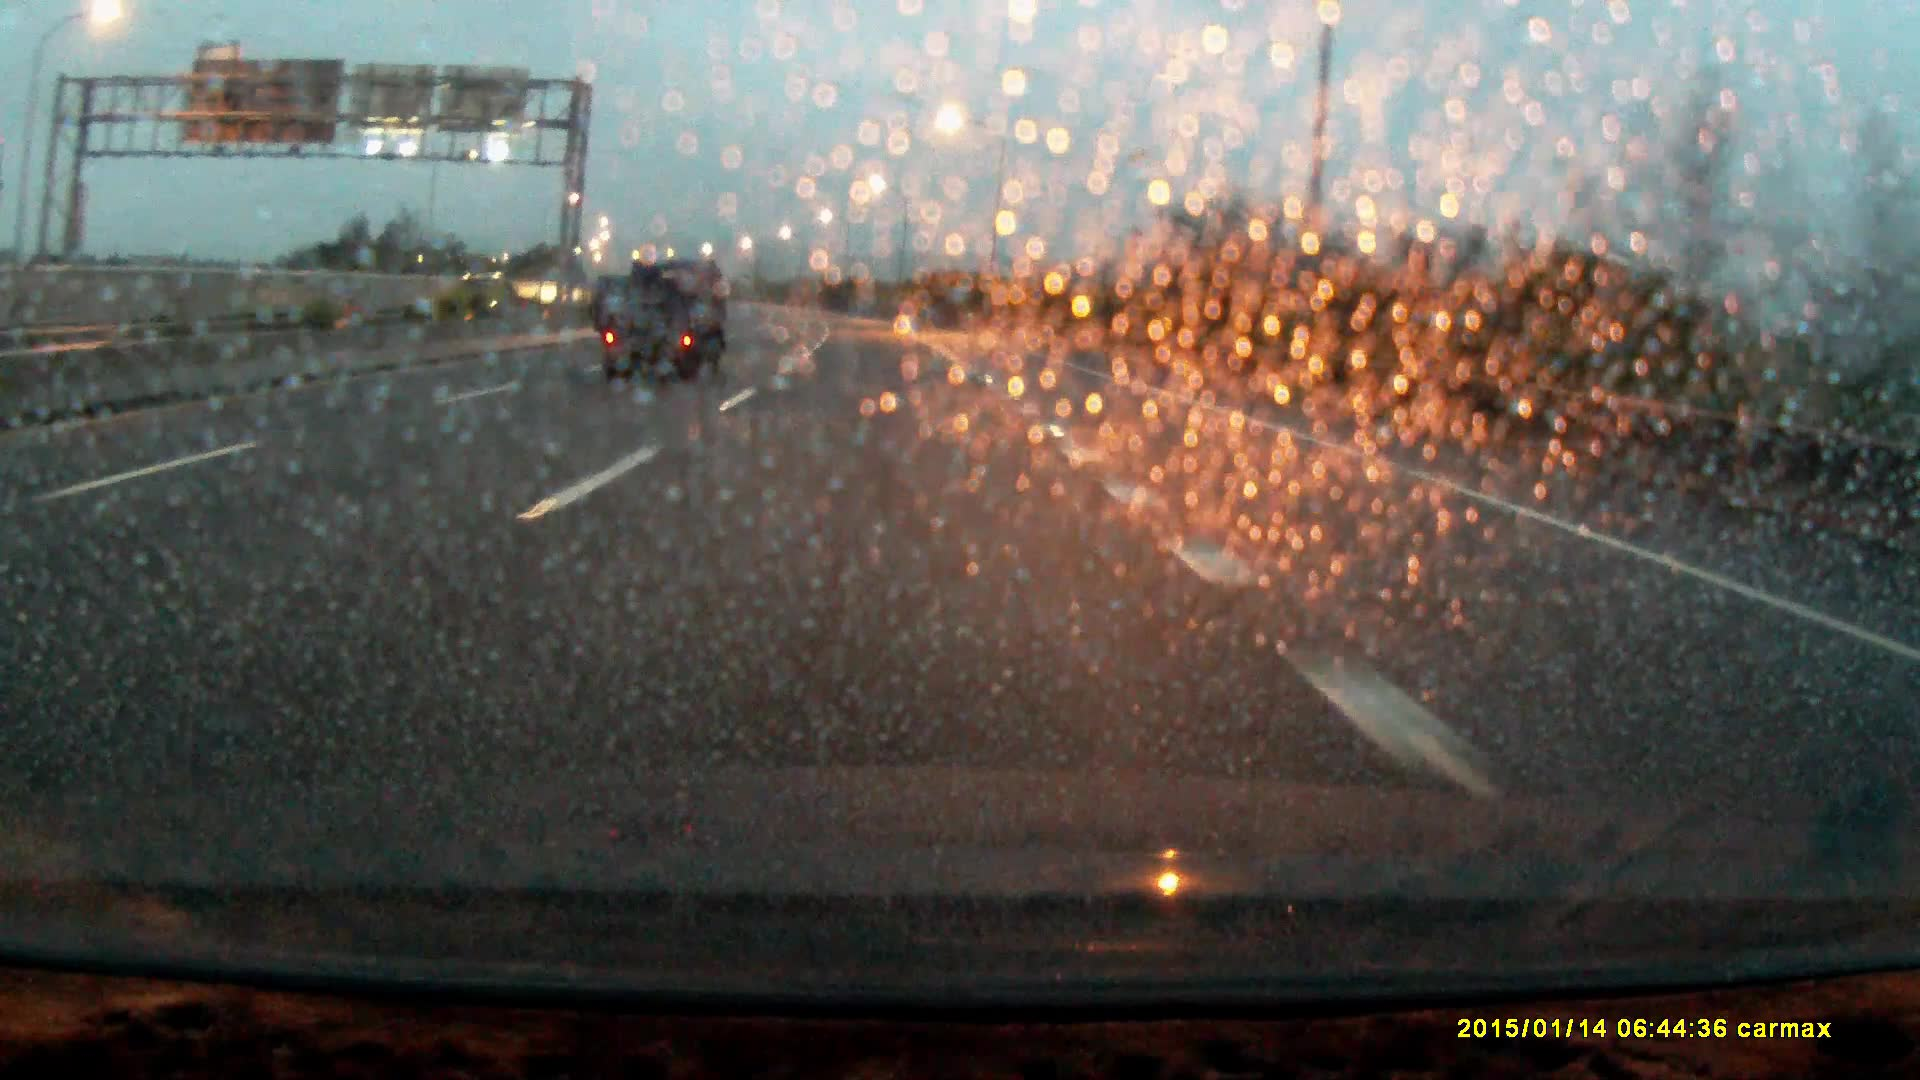vehicle: (599, 255, 732, 378), (462, 269, 553, 309)
